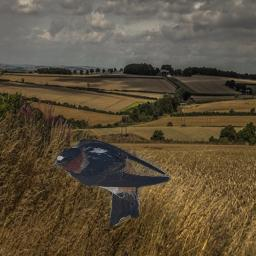Swallow: (53, 137, 172, 226)
